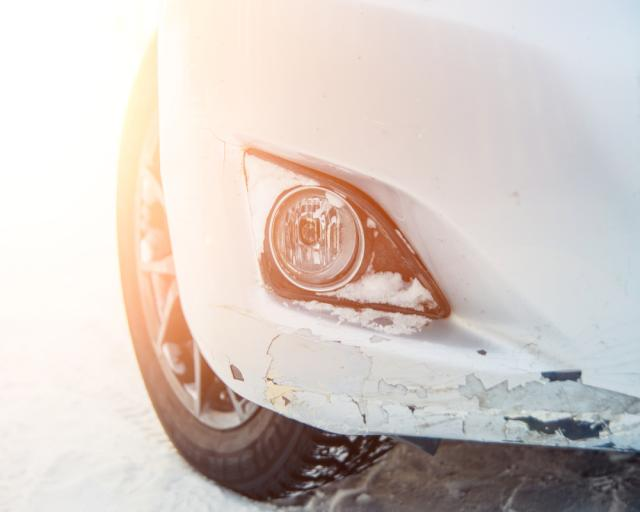scratch: (216, 302, 640, 454)
